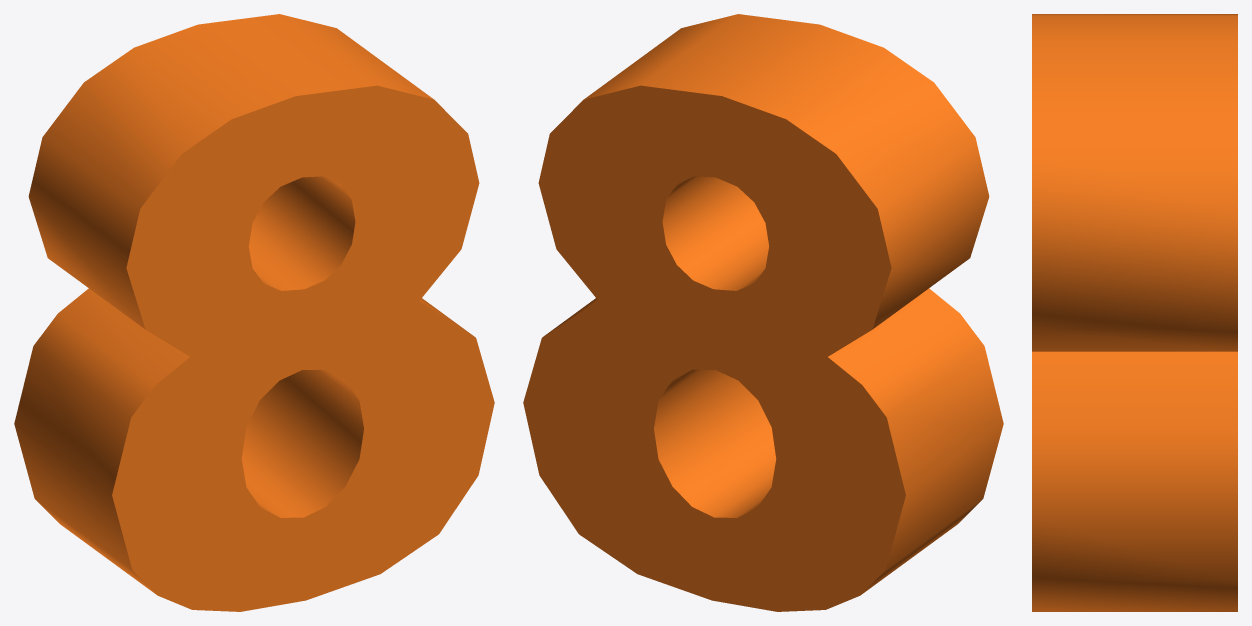
Rendered from eight.glb.
3 renders of one model, left to right at view 1: azimuth 30°, elevation 25°; view 2: azimuth 150°, elevation 25°; view 3: azimuth 270°, elevation 25°, orthographic. The views are drawn at different scales.
Visible parts, largest first — view 1: Object_3; view 2: Object_3; view 3: Object_3.
Part boxes in pixels (bbox=[...]): Object_3: bbox=[14, 14, 494, 611]; Object_3: bbox=[523, 14, 1003, 611]; Object_3: bbox=[1032, 14, 1237, 611].
Size of the model in its own units: 9.04 by 11.44 by 4.
